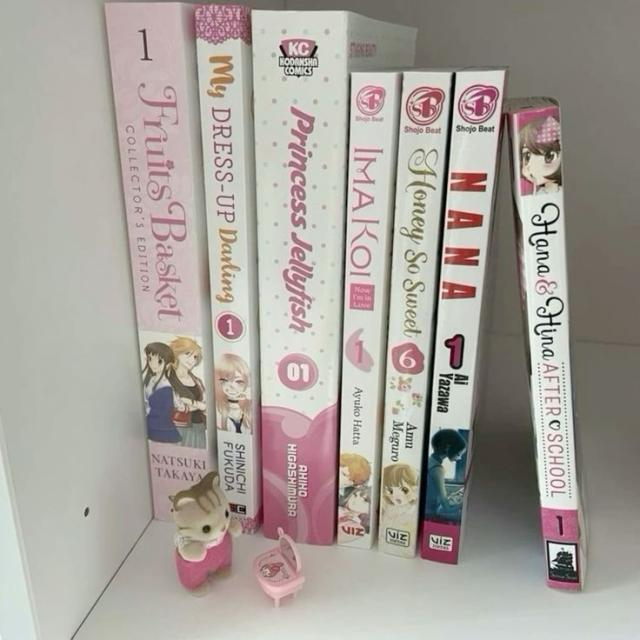book: (105, 3, 214, 519), (254, 12, 338, 538), (421, 70, 503, 564), (507, 98, 583, 590), (378, 72, 449, 557), (196, 5, 259, 520), (336, 72, 400, 548)
